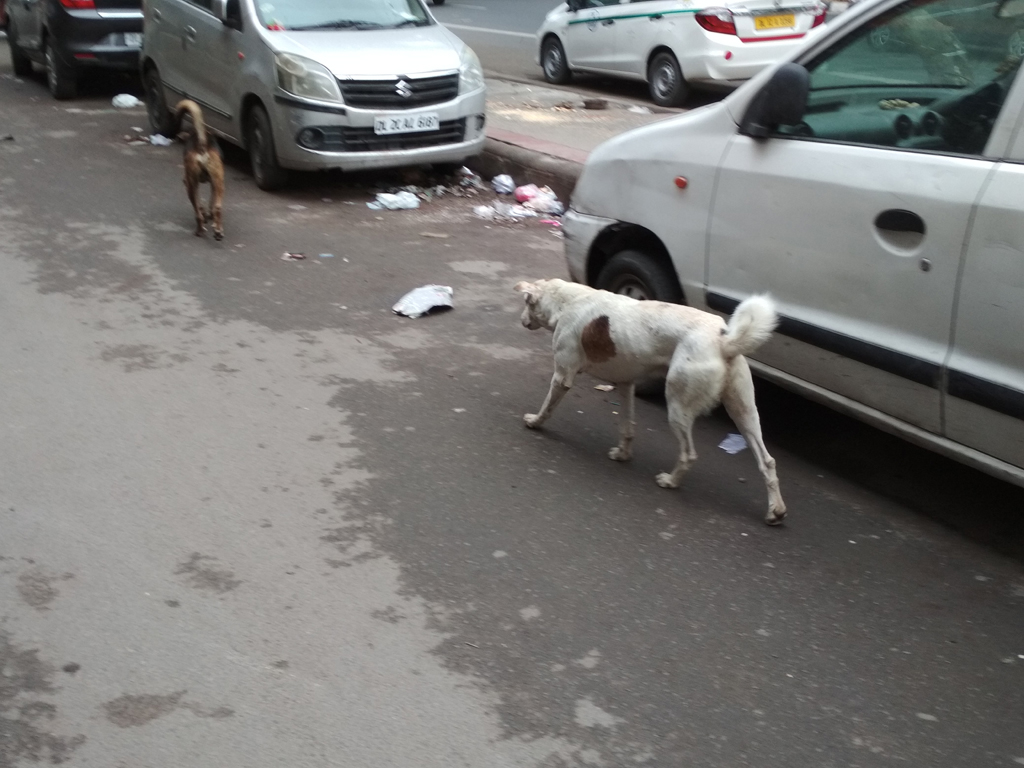dog: (514, 278, 789, 525), (170, 100, 223, 240)
